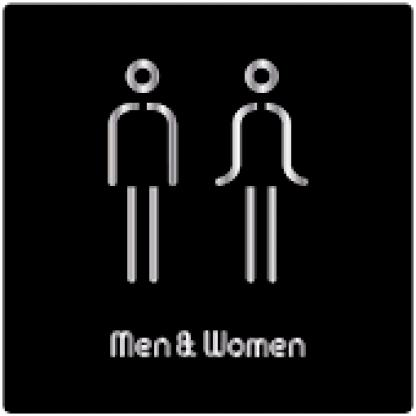toilet: (100, 48, 316, 305)
